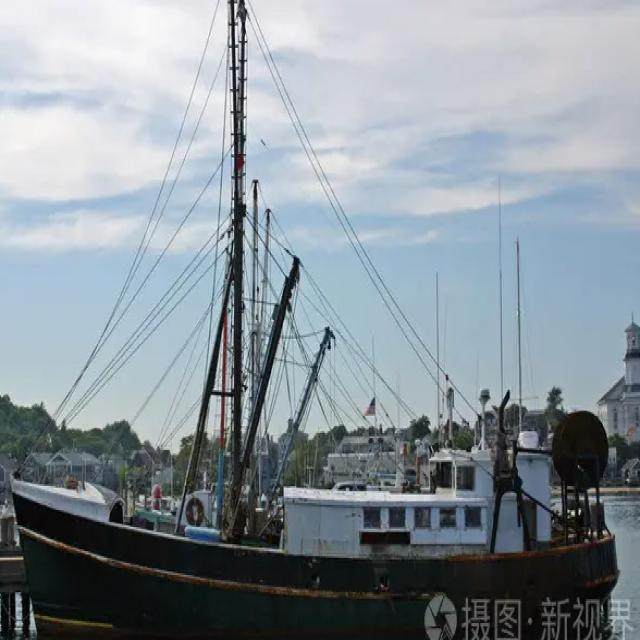fishing boat: (3, 0, 622, 631)
